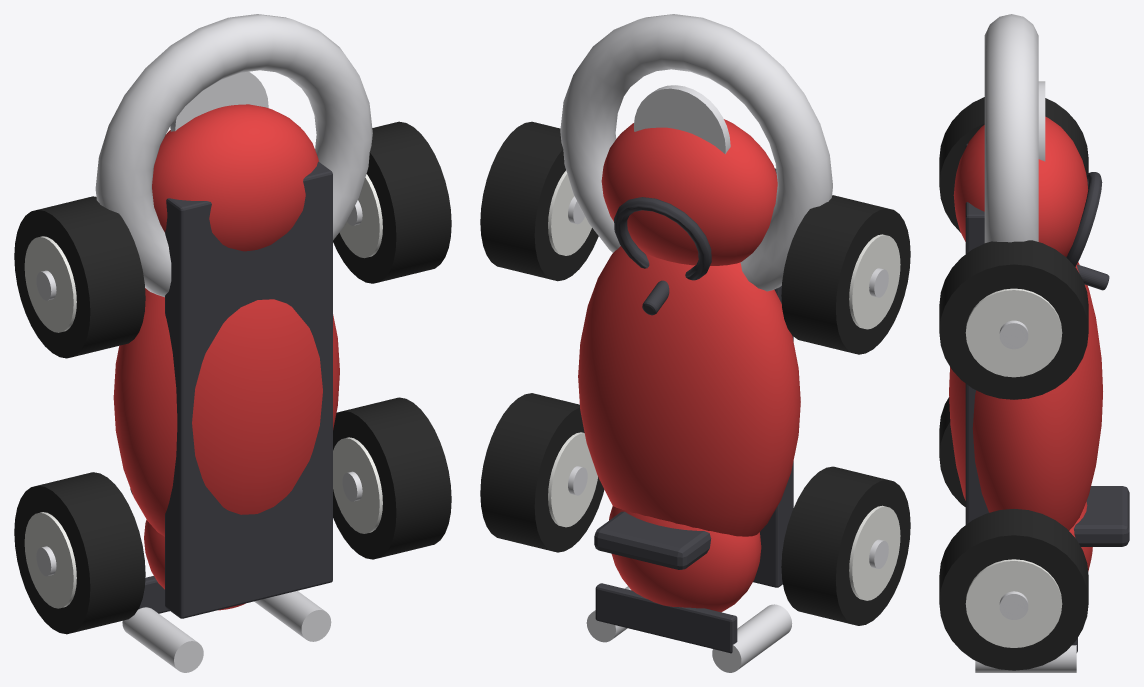
File: mario-kart.glb
3 views of the same model, side by side, from view 1: azimuth 30°, elevation 25°; view 2: azimuth 150°, elevation 25°; view 3: azimuth 270°, elevation 25° (orthographic).
Visible parts, largest first — view 1: Kart_body, Kart_chassis, Kart_trim, Kart_wheels_back, Kart_wheels_front; view 2: Kart_body, Kart_trim, Kart_wheels_back, Kart_wheels_front, Kart_chassis, seatback; view 3: Kart_body, Kart_wheels_front, Kart_wheels_back, Kart_trim, Kart_chassis, seatback.
Boxes of the visible parts, bbox=[...] form: Kart_body: bbox=[113, 104, 339, 610]; Kart_chassis: bbox=[138, 161, 332, 618]; Kart_trim: bbox=[95, 14, 372, 672]; Kart_wheels_back: bbox=[14, 397, 451, 634]; Kart_wheels_front: bbox=[14, 121, 451, 358]; Kart_body: bbox=[578, 119, 800, 612]; Kart_trim: bbox=[560, 14, 832, 672]; Kart_wheels_back: bbox=[480, 393, 910, 625]; Kart_wheels_front: bbox=[480, 121, 910, 354]; Kart_chassis: bbox=[595, 168, 793, 653]; seatback: bbox=[594, 511, 711, 569]; Kart_body: bbox=[949, 116, 1102, 571]; Kart_wheels_front: bbox=[939, 97, 1088, 399]; Kart_wheels_back: bbox=[939, 397, 1088, 670]; Kart_trim: bbox=[975, 14, 1076, 672]; Kart_chassis: bbox=[965, 143, 1109, 652]; seatback: bbox=[1074, 486, 1129, 546].
Size of the model in its own units: 1.78 by 2.81 by 0.79.
